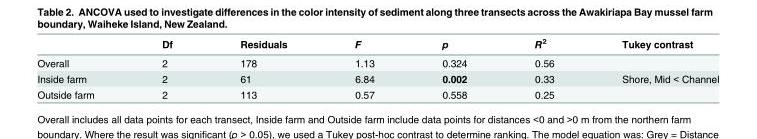table: (36, 36, 718, 100)
table column: (587, 36, 718, 100), (205, 36, 320, 100), (407, 36, 500, 100), (36, 36, 127, 100), (320, 36, 407, 100), (500, 36, 587, 100), (127, 36, 205, 100)
table column header: (36, 36, 718, 53)
table row: (36, 36, 718, 53), (36, 53, 718, 70), (36, 70, 718, 86), (36, 86, 718, 100)
